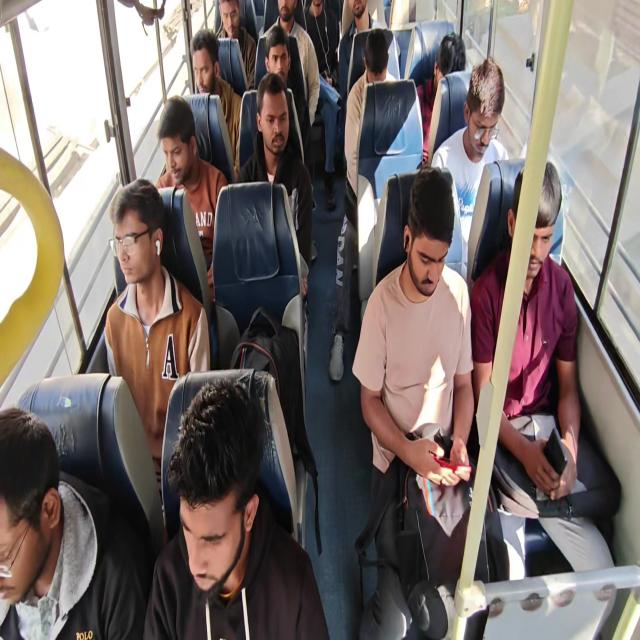person: (351, 165, 507, 638), (470, 159, 620, 591), (142, 378, 330, 638), (104, 178, 210, 514), (0, 406, 146, 639), (328, 28, 398, 382), (430, 57, 509, 280), (237, 72, 314, 299), (155, 95, 228, 300), (344, 28, 397, 203), (303, 0, 342, 210), (262, 0, 320, 126), (191, 28, 242, 171), (415, 32, 466, 168), (337, 0, 387, 97), (216, 0, 256, 91), (305, 0, 341, 87)
